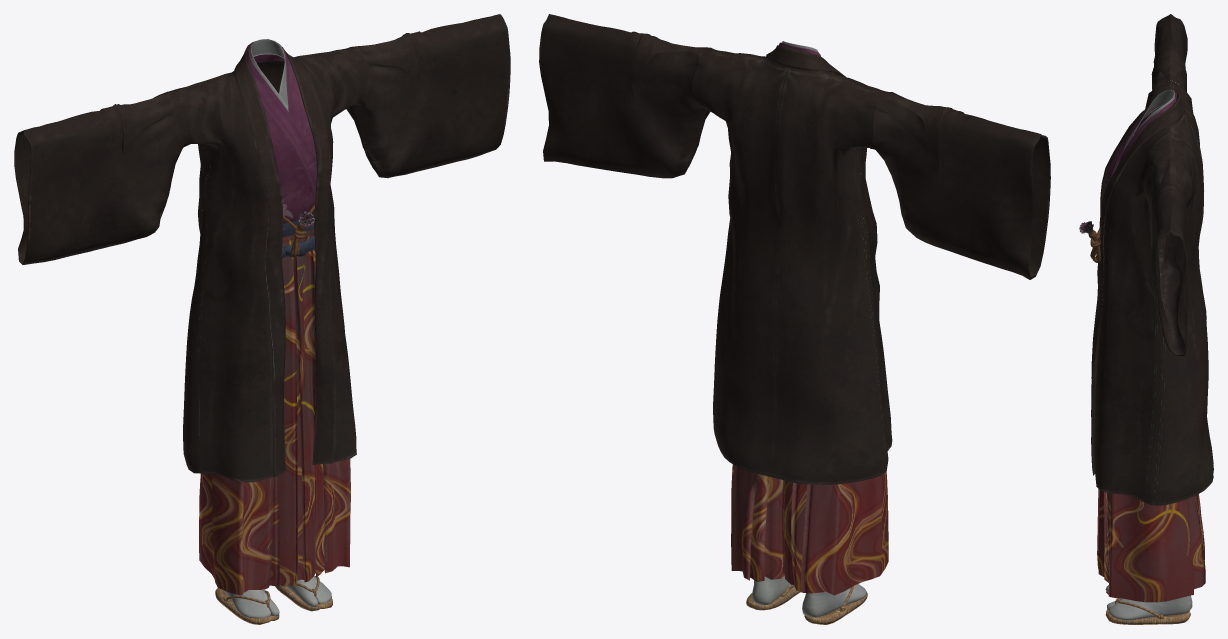
The picture shows the model from 3 angles, left to right: view 1: azimuth 30°, elevation 25°; view 2: azimuth 150°, elevation 25°; view 3: azimuth 270°, elevation 25°; orthographic projection. The views are drawn at different scales.
Visible parts, largest first — view 1: HF; view 2: HF; view 3: HF.
Part boxes in pixels (x1,y1,x2,y2): HF: (14, 14, 510, 624); HF: (539, 14, 1050, 624); HF: (1079, 14, 1213, 624).
Size of the model in its own units: 10.48 by 11.46 by 2.74.
